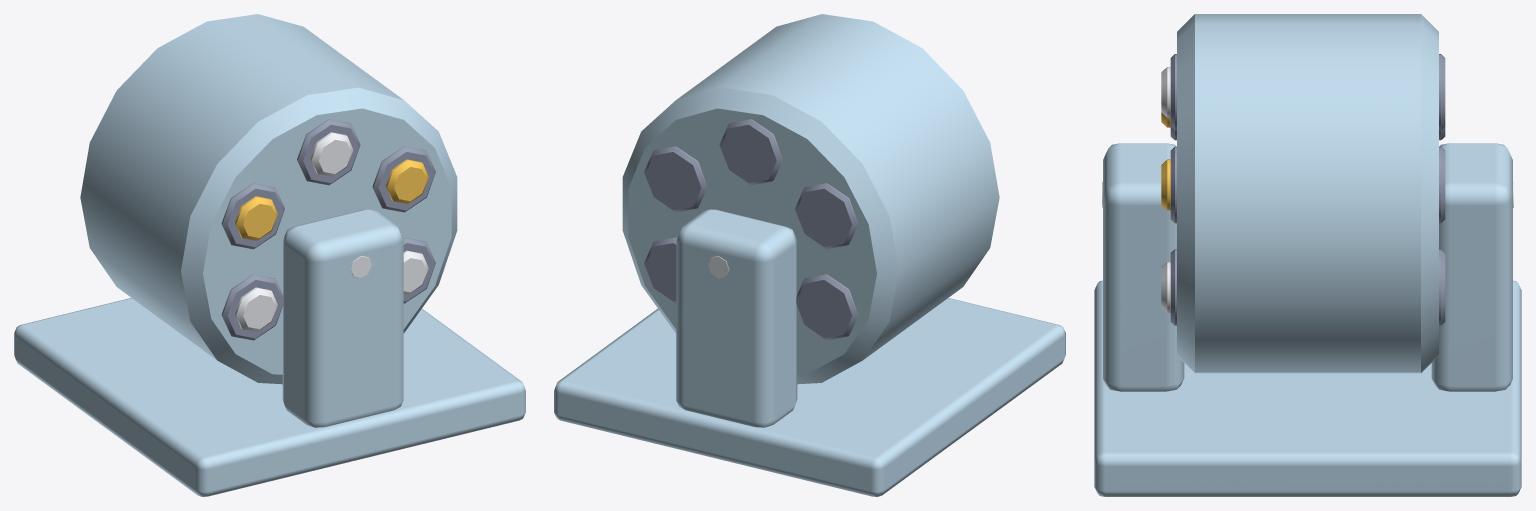
File: R4X_ReloadBooster.fbx
The picture shows the model from 3 angles, left to right: view 1: azimuth 30°, elevation 25°; view 2: azimuth 150°, elevation 25°; view 3: azimuth 270°, elevation 25°; orthographic projection. The views are drawn at different scales.
Parts seen in each view (by area): view 1: R4X_ReloadBooster_Drum, R4X_ReloadBooster_Body; view 2: R4X_ReloadBooster_Drum, R4X_ReloadBooster_Body; view 3: R4X_ReloadBooster_Drum, R4X_ReloadBooster_Body.
Part boxes in pixels (<box>): R4X_ReloadBooster_Drum: <box>80,14,457,384</box>; R4X_ReloadBooster_Body: <box>14,209,525,496</box>; R4X_ReloadBooster_Drum: <box>622,14,999,384</box>; R4X_ReloadBooster_Body: <box>554,209,1065,496</box>; R4X_ReloadBooster_Drum: <box>1161,14,1445,373</box>; R4X_ReloadBooster_Body: <box>1094,143,1521,496</box>.
Size of the model in its own units: 0.52 by 0.5091 by 0.52.
